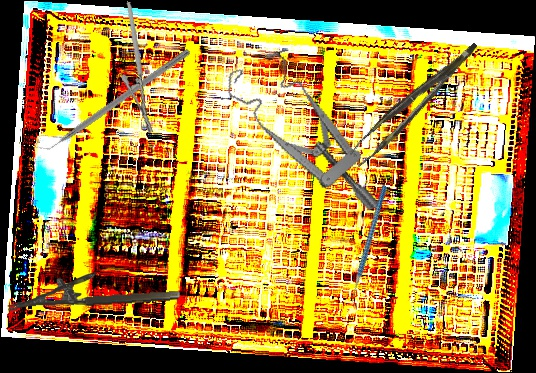Chopper: (31, 40, 192, 159), (315, 184, 426, 310)
Needle Holder: (104, 1, 176, 134), (5, 267, 181, 312)
Speculum: (219, 34, 383, 242)
Tissue Forceps: (341, 42, 492, 168)
